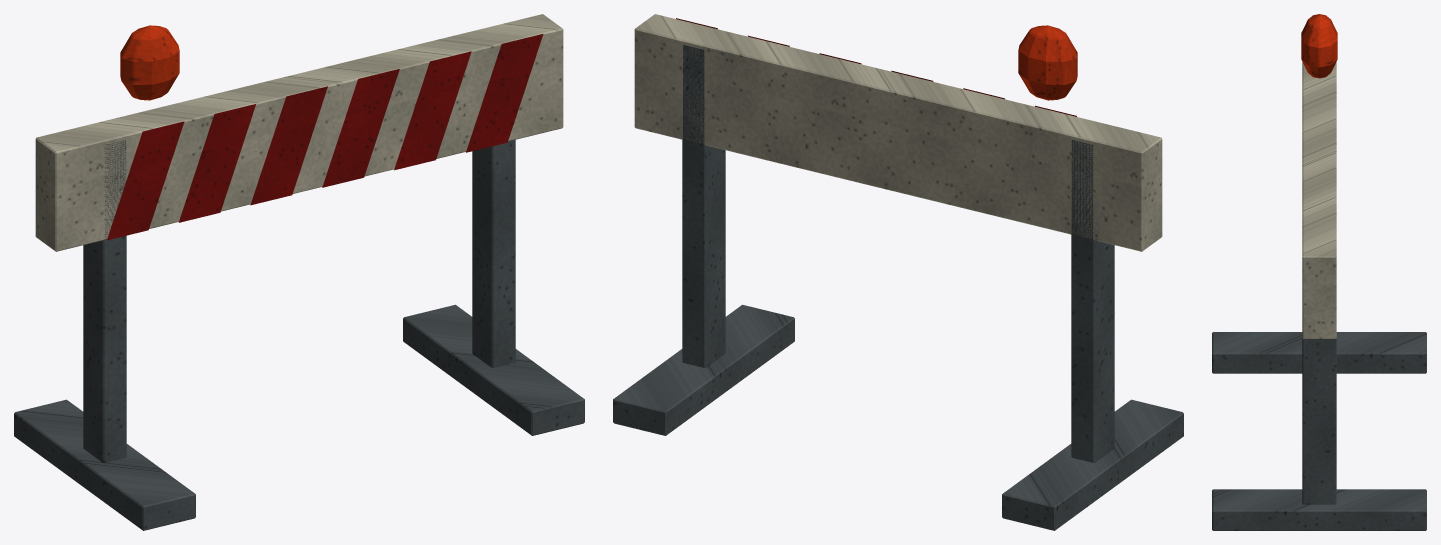
Rendered from PROP-D89DFF822F38_lod1.glb.
3 renders of one model, left to right at view 1: azimuth 30°, elevation 25°; view 2: azimuth 150°, elevation 25°; view 3: azimuth 270°, elevation 25°, orthographic. The views are drawn at different scales.
Parts seen in each view (by area): view 1: barrier_board.001, painted_diagonal_stripe.001, barrier_leg.001, barrier_foot.001, barrier_beacon.001; view 2: barrier_board.001, barrier_leg.001, barrier_foot.001, barrier_beacon.001; view 3: barrier_foot.001, barrier_board.001, barrier_leg.001, barrier_beacon.001.
Boxes of the visible parts, box(x1,y1,x2,y2) form: barrier_board.001: box(35, 14, 563, 251); painted_diagonal_stripe.001: box(107, 34, 543, 240); barrier_leg.001: box(83, 55, 515, 462); barrier_foot.001: box(14, 304, 584, 530); barrier_beacon.001: box(120, 25, 179, 100); barrier_board.001: box(634, 14, 1162, 251); barrier_leg.001: box(682, 45, 1114, 462); barrier_foot.001: box(613, 304, 1183, 530); barrier_beacon.001: box(1018, 25, 1077, 100); barrier_foot.001: box(1212, 332, 1426, 530); barrier_board.001: box(1302, 62, 1336, 338); barrier_leg.001: box(1302, 338, 1336, 504); barrier_beacon.001: box(1301, 14, 1337, 78).
Size of the model in its own units: 1.7 by 1.41 by 0.75.
4 materials, 4 textured.
